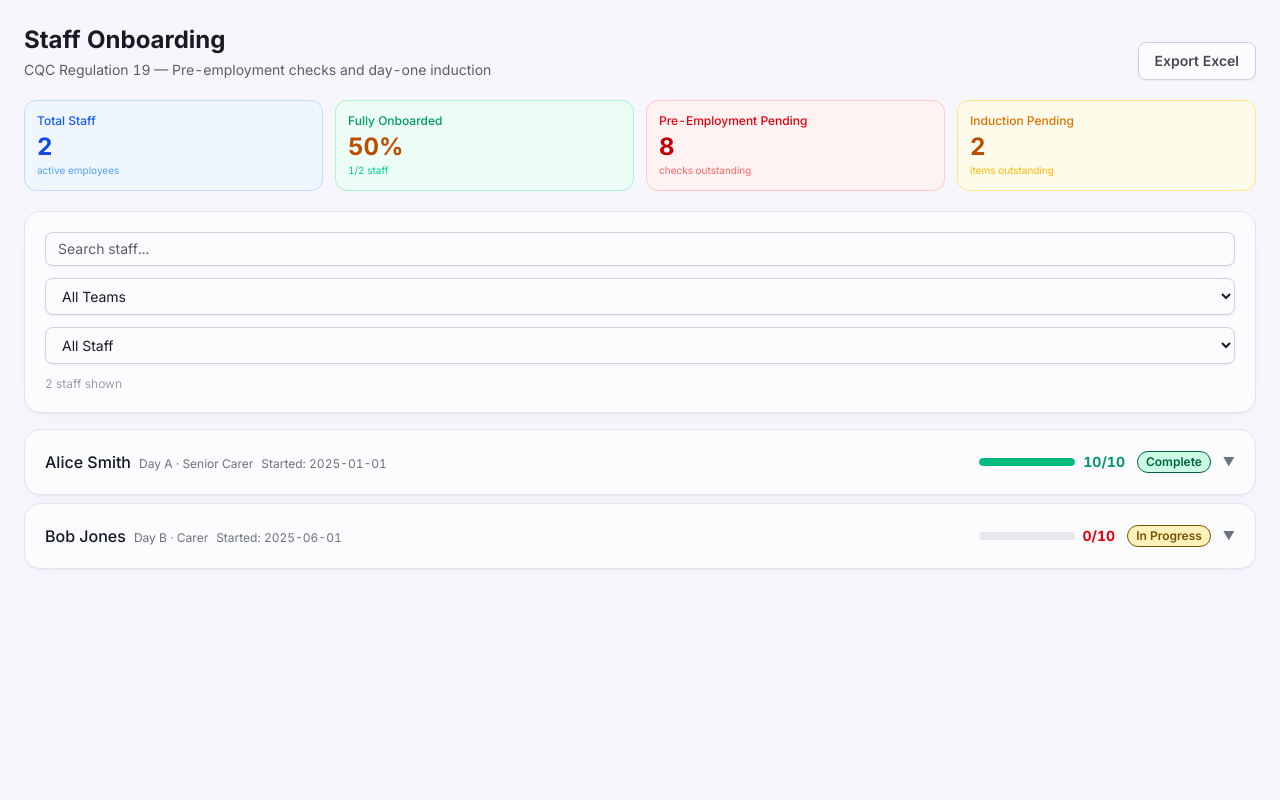
it: OnboardingTracker › lets HR officers open sensitive onboarding sections without compliance access
This screenshot has width=1280, height=800.
Check: the text "Alice Smith" is shown, box [45,452,131,472]
Click the button that starts with "Alice Smith": (88, 462) [45,450,1235,474]
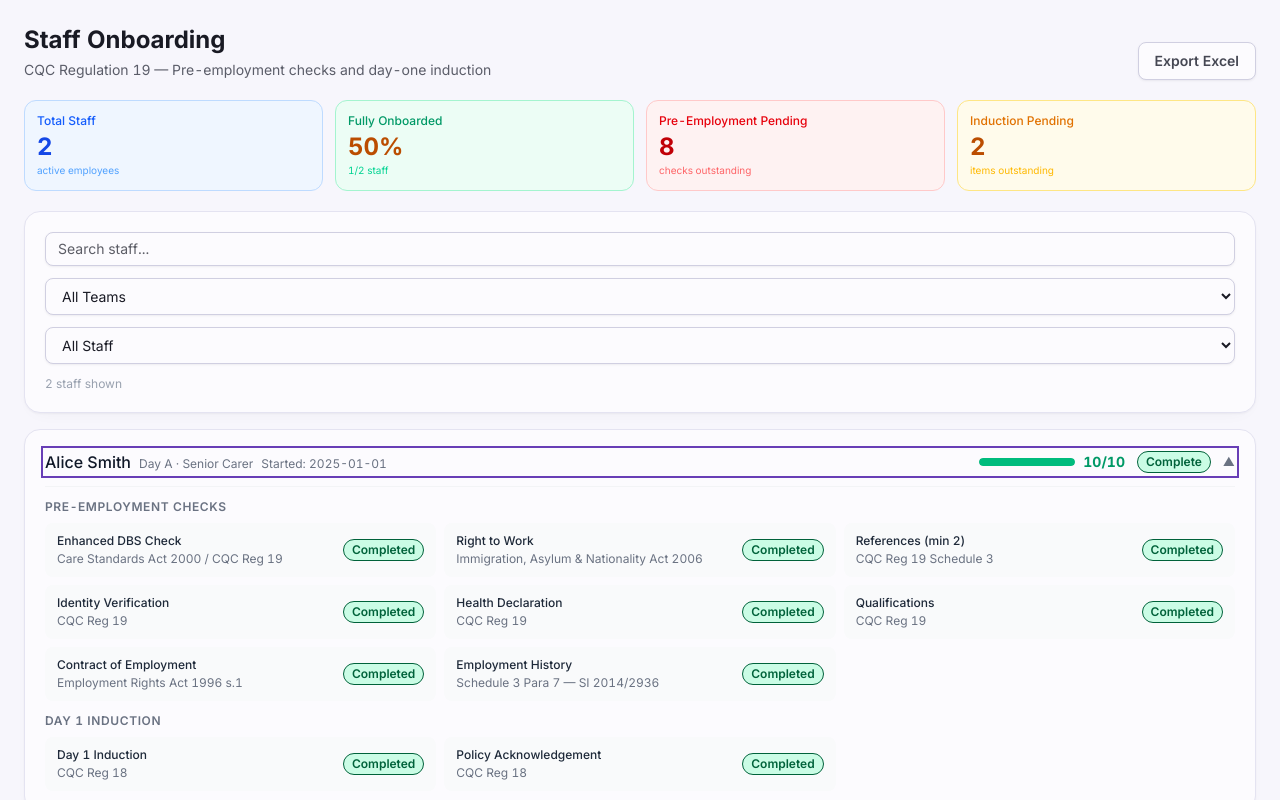
Check: the text "Enhanced DBS Check" is shown
Click the text "Enhanced DBS Check": (119, 540) [57,533,182,548]
(page scrolled)
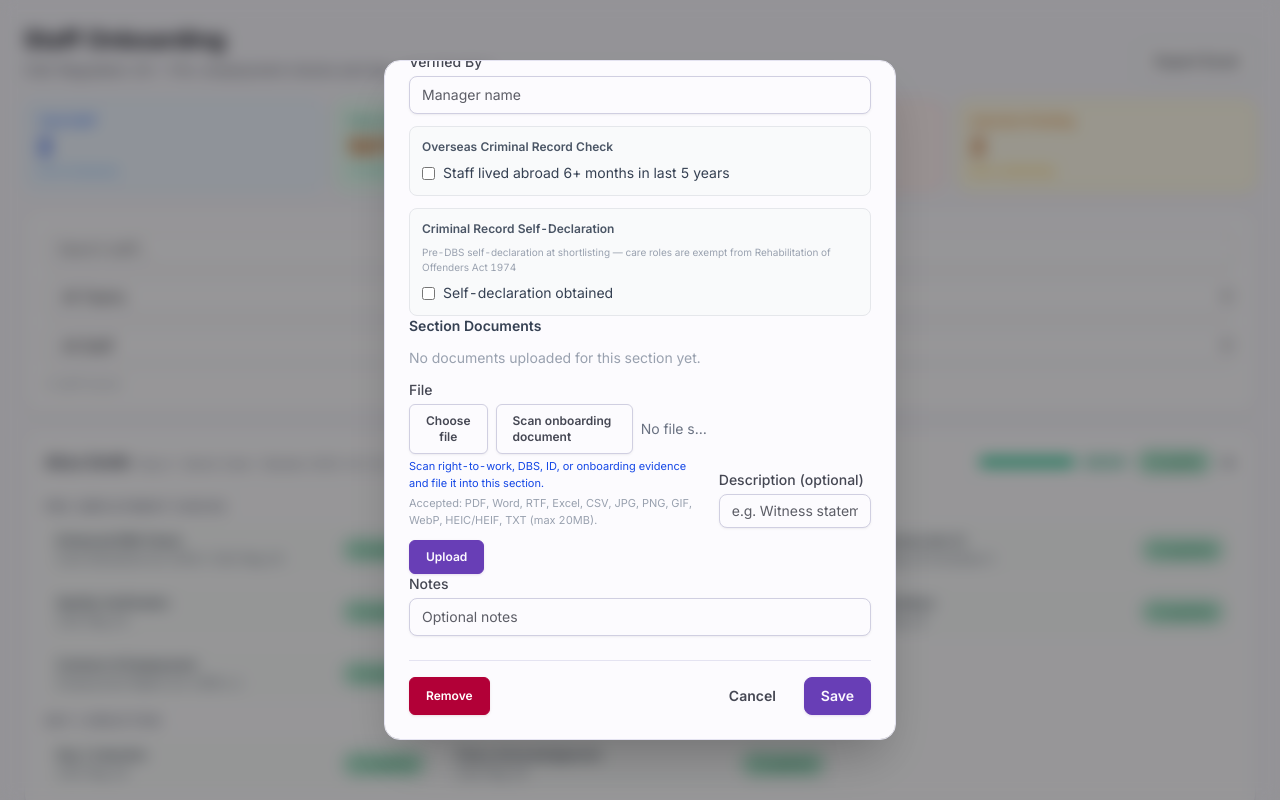
Check: the button "Save" is shown, box [804,677,871,715]
